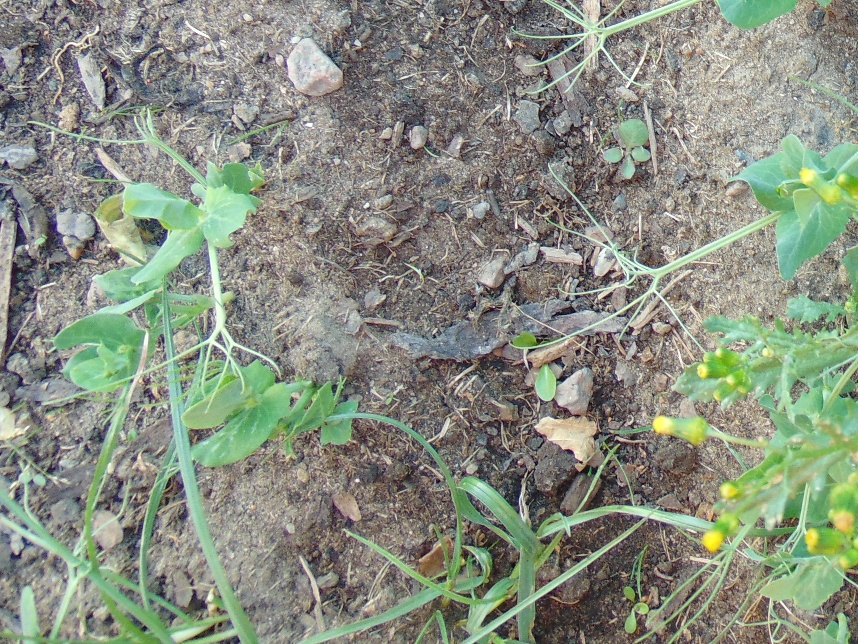crop: (55, 99, 262, 393), (53, 298, 360, 465), (704, 413, 858, 644), (599, 177, 744, 317), (533, 1, 802, 75)
weed: (656, 319, 858, 558), (1, 525, 255, 644), (416, 446, 577, 630), (514, 328, 563, 403), (801, 151, 858, 209), (603, 119, 651, 177)
